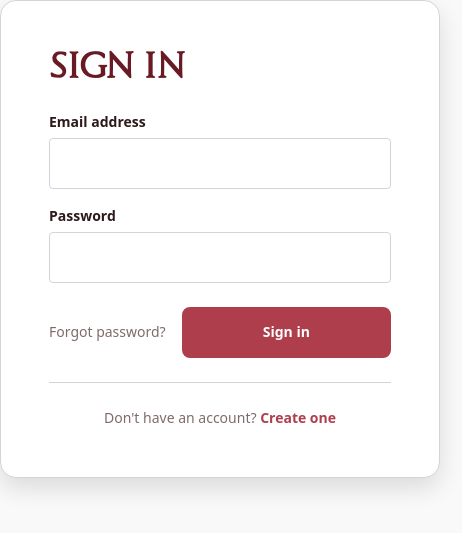
Scenario: LoginPage — client-side validation › shows an error when email is malformed
The width and height of the screenshot is (462, 533).
Type "notanemail" into the field labelled "Email address". click: (220, 164)
box: [49,138,391,189]
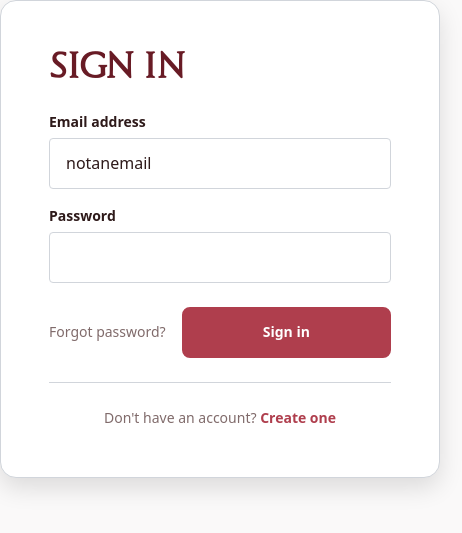
Type "Password1" into the password field labelled "Password". click: (220, 258)
box: [49,232,391,283]
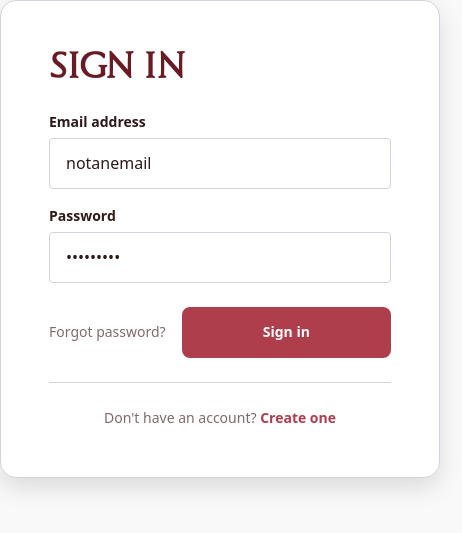
Click the button "Sign in". click: click(286, 333)
box: [182,307,391,358]
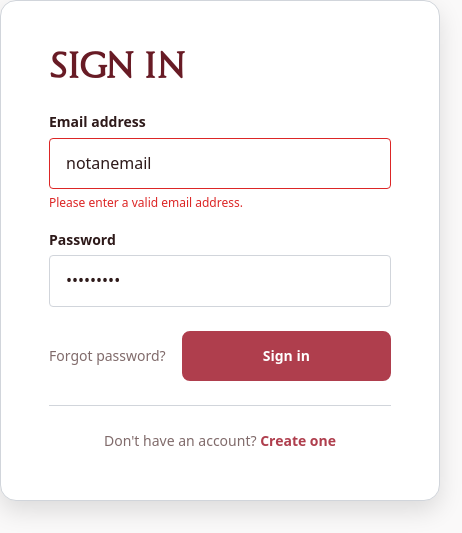
Check: the text "Please enter a valid email address." is shown, box [49,194,243,211]
